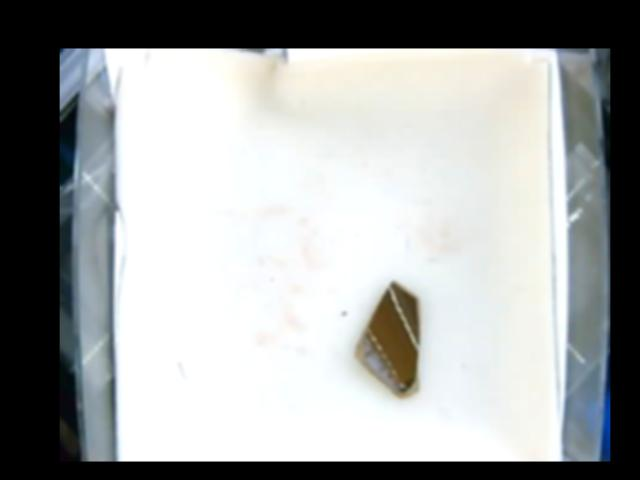China: (352, 279, 421, 398)
